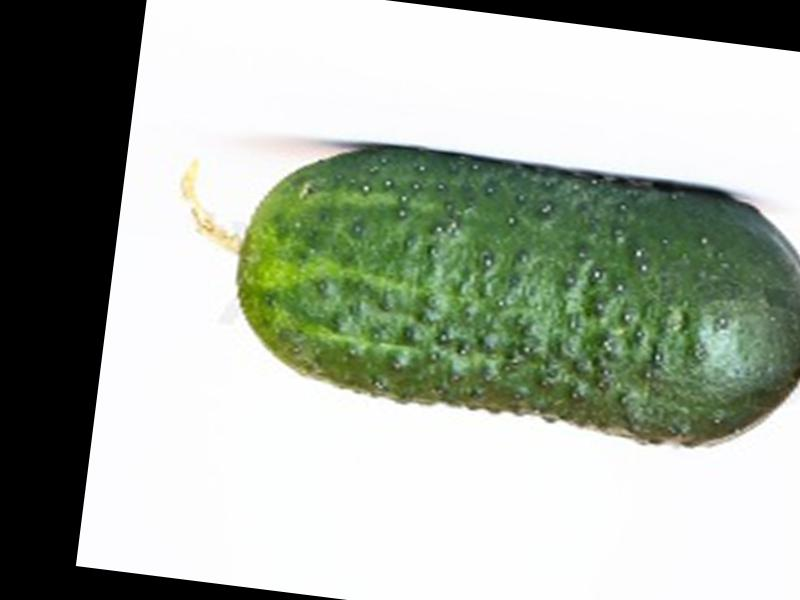Cucumber: (154, 118, 800, 466)
